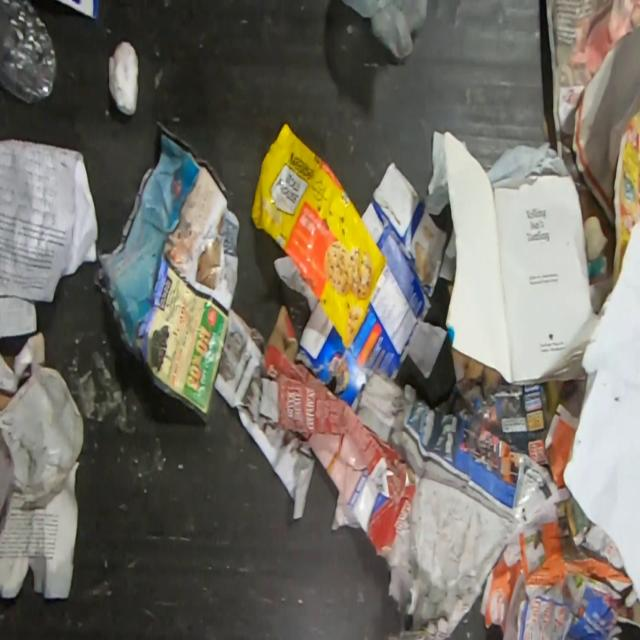cardboard: (258, 304, 417, 559), (295, 161, 448, 406)
soft_plastic: (250, 122, 388, 348), (0, 362, 84, 511), (341, 0, 428, 58)
